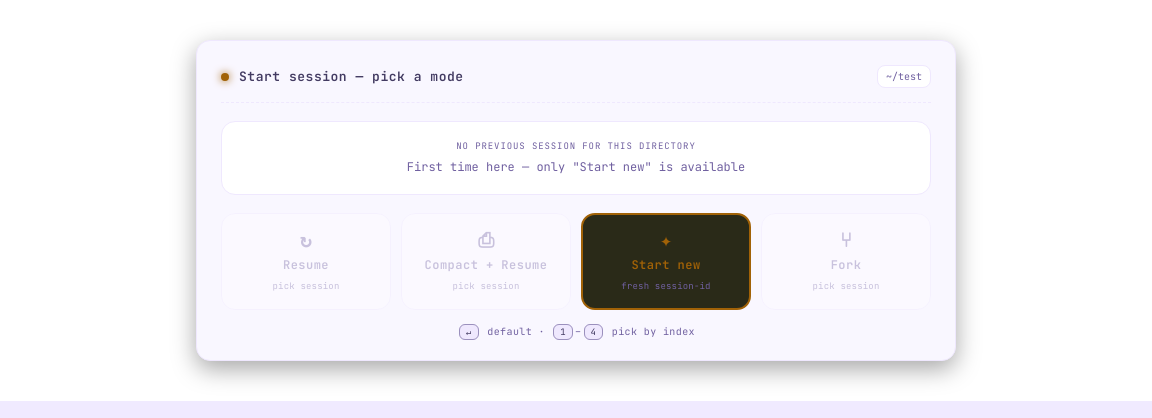
Test case: chat:usage merge wiring (v1.7.121 regression) › cc-only broadcast does NOT wipe fiveHour/sevenDay set by a prior pct broadcast
Expected: the text "Start new" is shown, [631,256,700,274]
Click the button "✦ Start new fresh session-id" at (666, 261), box [581,212,751,310]
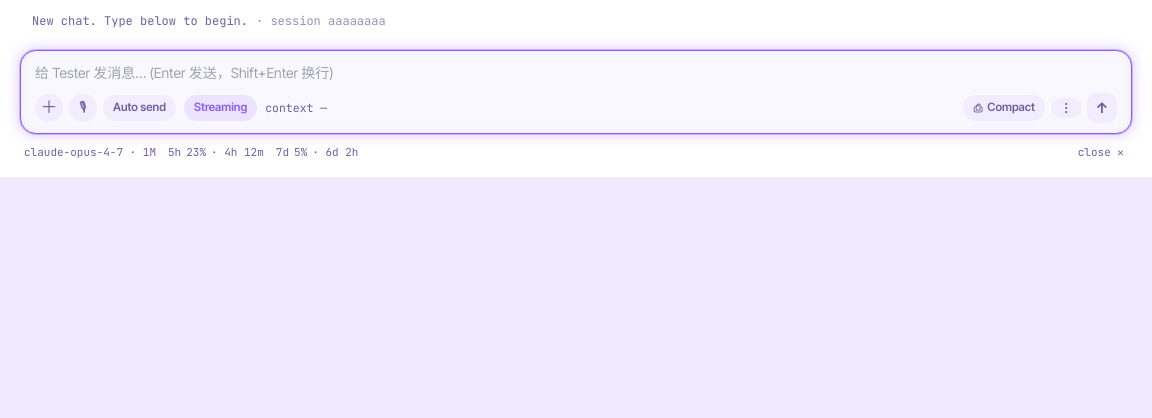
Now the text "23%" is shown, box [186,144,206,160]
Now the text "5%" is shown, box [294,144,307,160]
